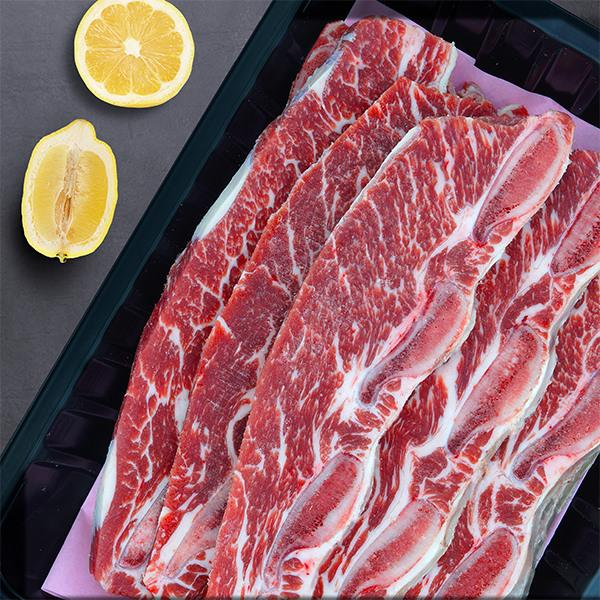beef: (281, 147, 462, 397)
